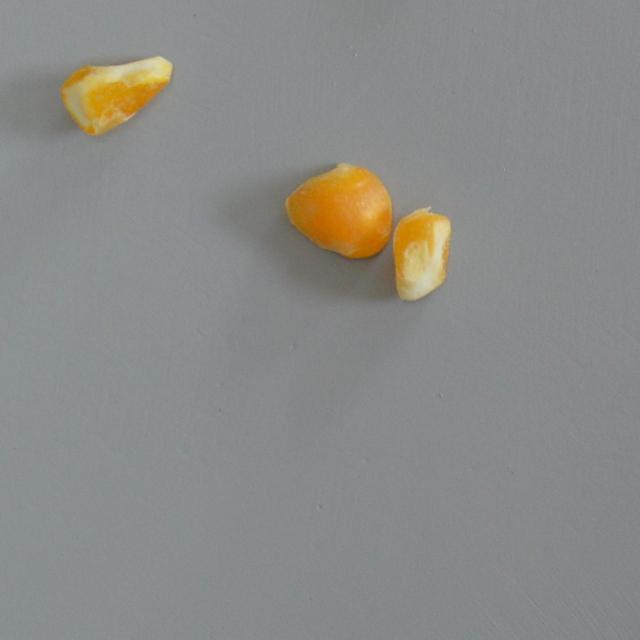dañado: (278, 154, 399, 266)
pelicula: (56, 46, 173, 138), (391, 202, 448, 301)
